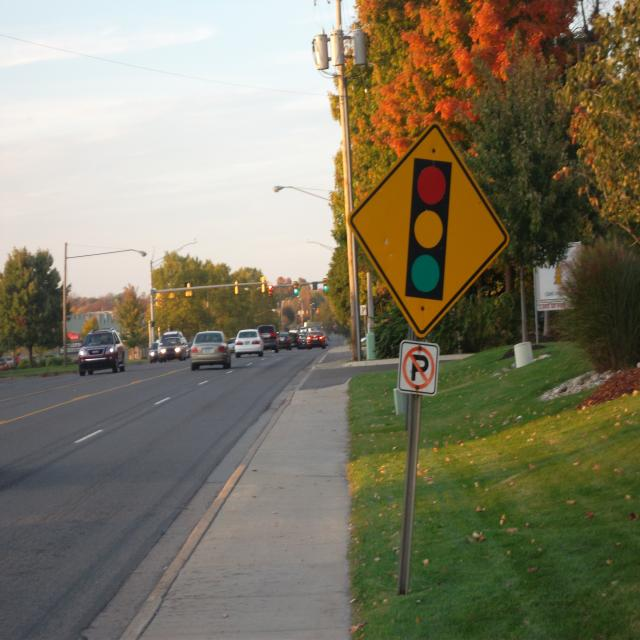regulatory: (395, 336, 441, 402), (359, 302, 367, 318)
warning: (344, 107, 519, 338)
